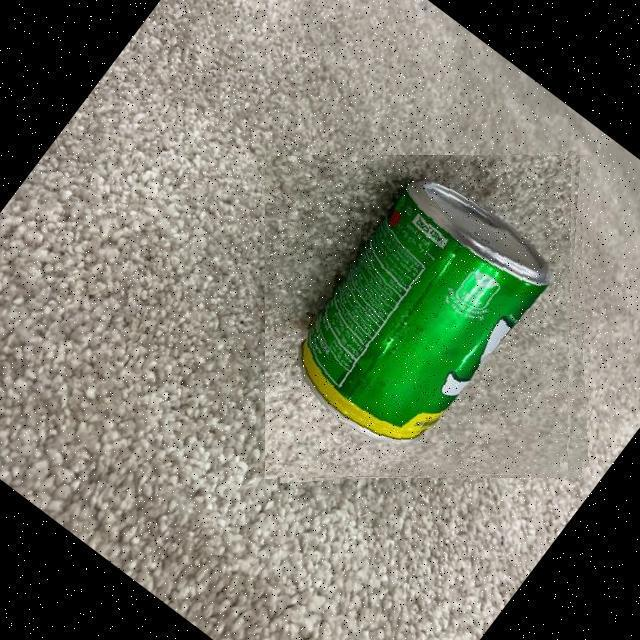recyclable: (266, 155, 590, 479)
